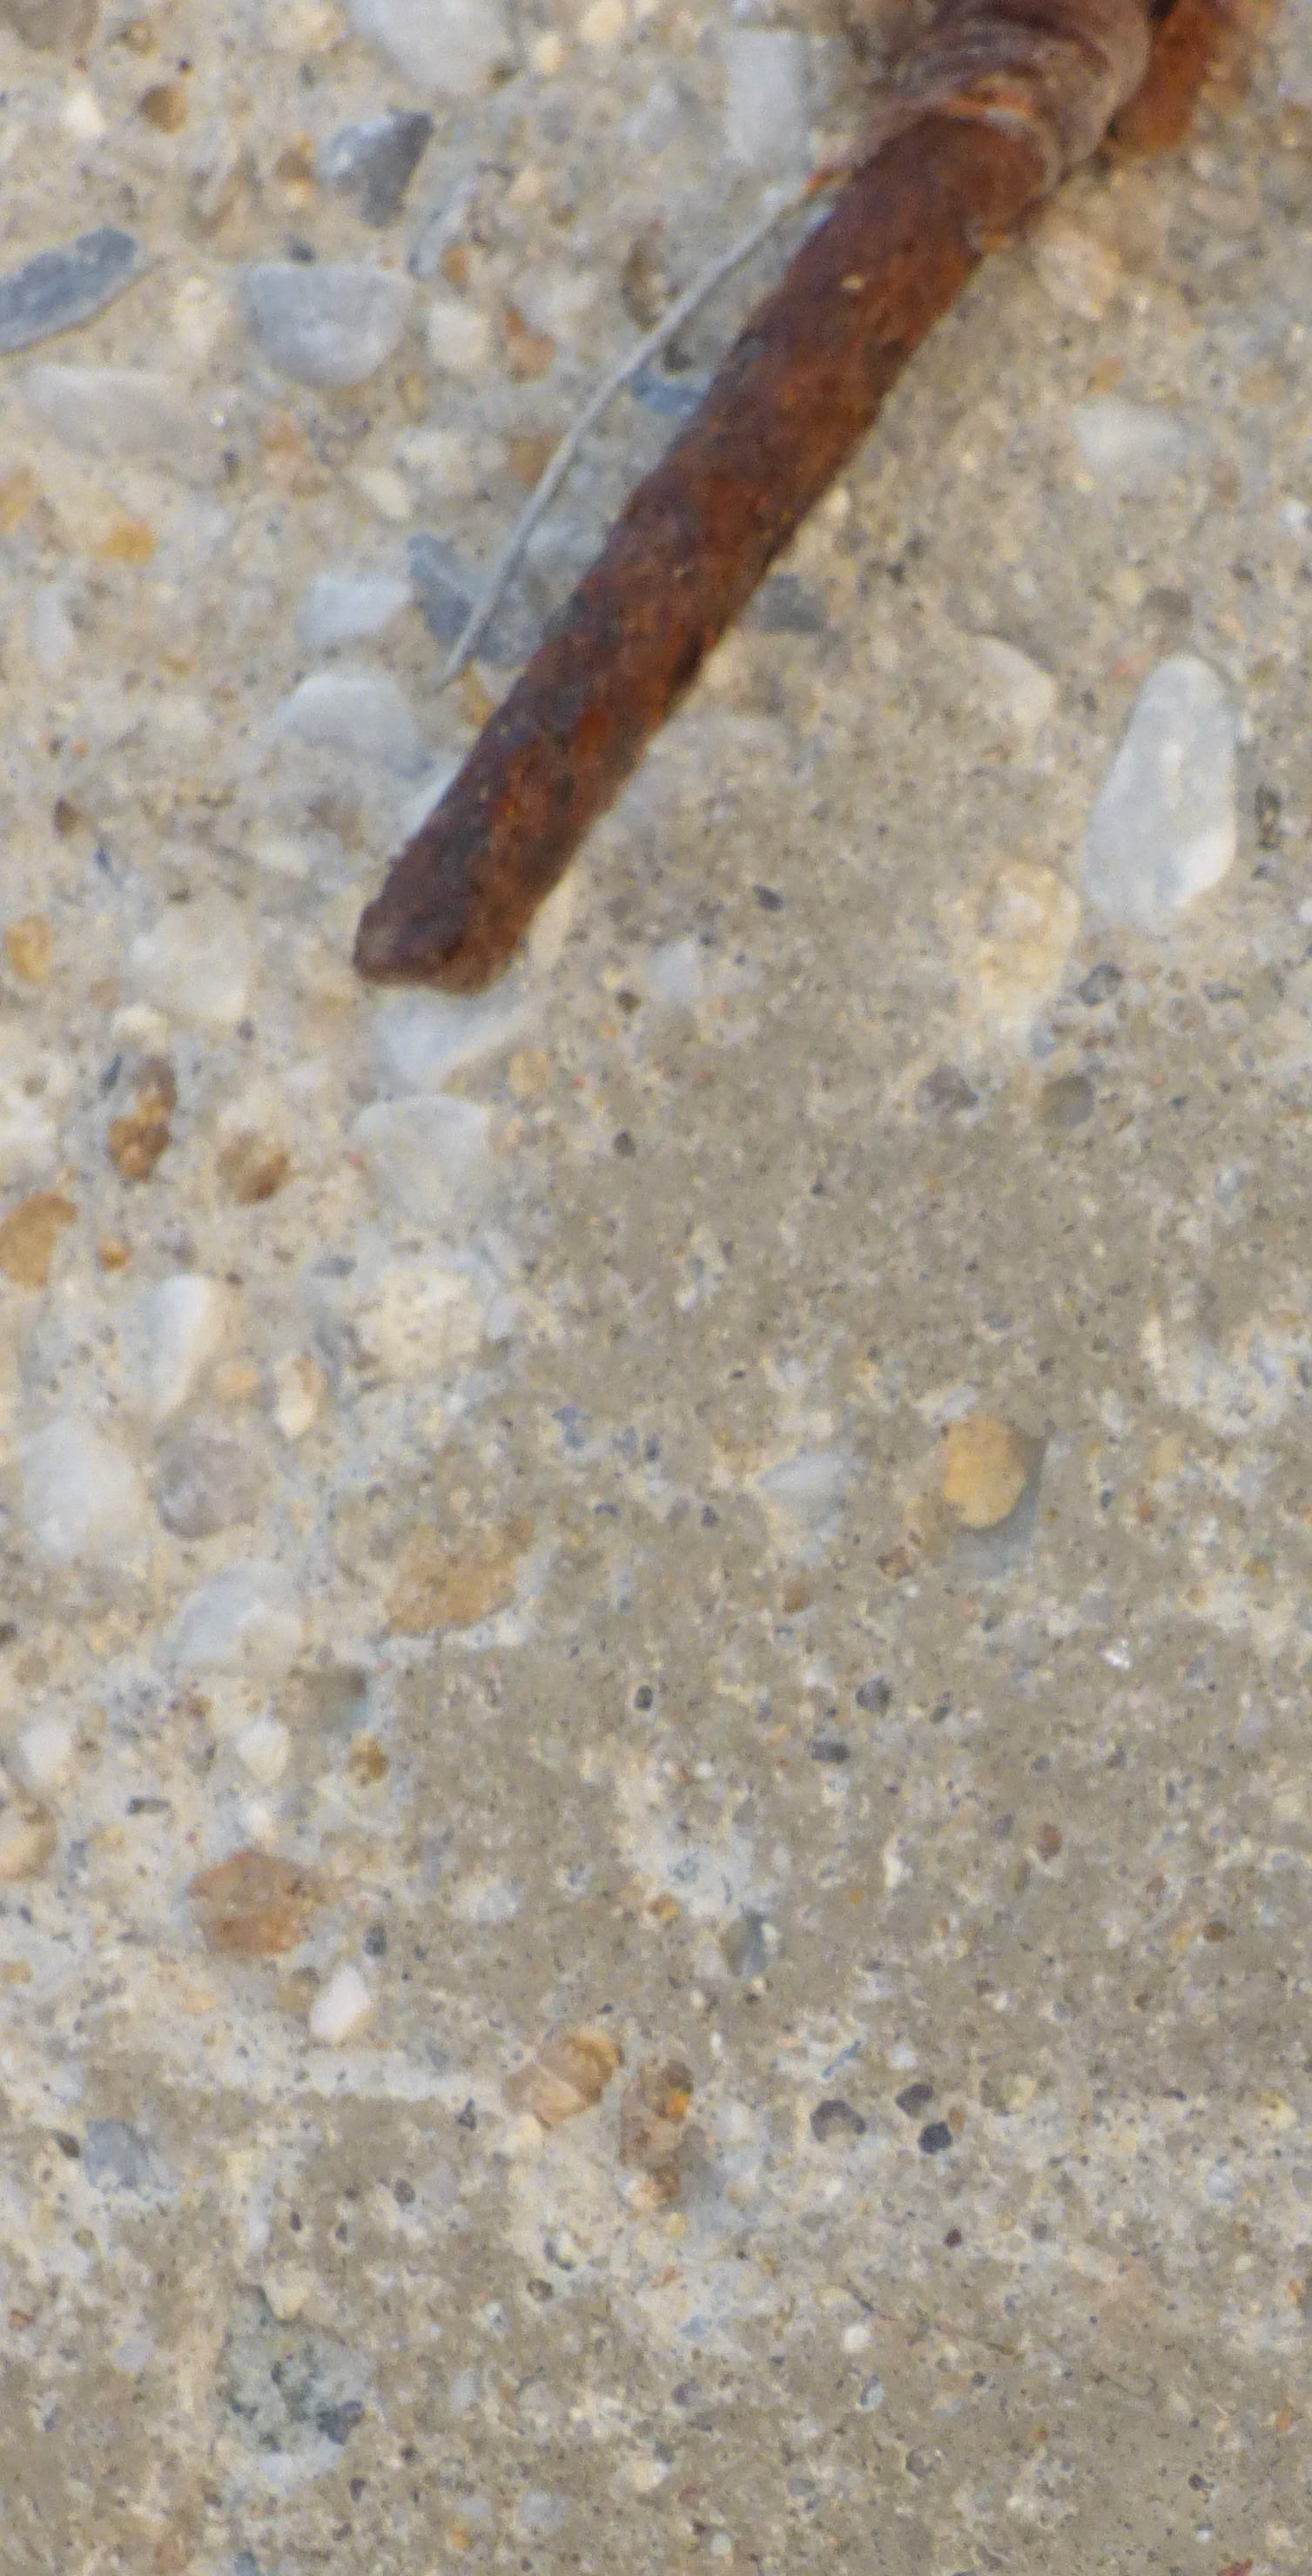Exposed reinforcement: (351, 2, 1170, 997)
